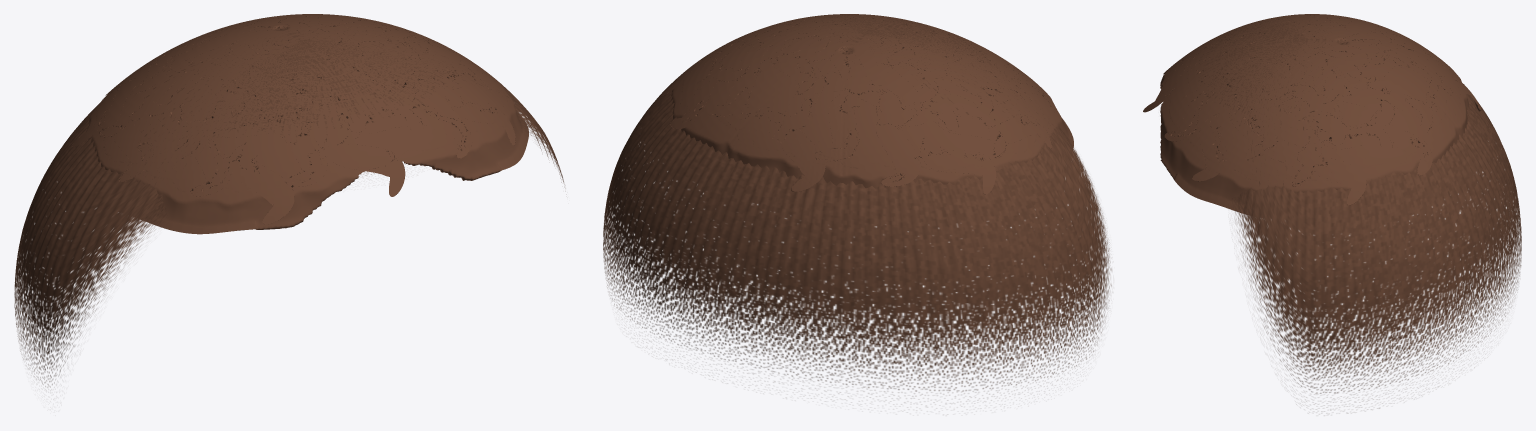
File: Masculine-curly-top-cap256-hair-ombre.glb
The picture shows the model from 3 angles, left to right: view 1: azimuth 30°, elevation 25°; view 2: azimuth 150°, elevation 25°; view 3: azimuth 270°, elevation 25°; orthographic projection. The views are drawn at different scales.
Visible parts, largest first — view 1: 226 hair / Hair252 / sculpted curl groups, 226 hair / Hair256 / selected B sides; view 2: 226 hair / Hair256 / selected B sides, 226 hair / Hair252 / sculpted curl groups; view 3: 226 hair / Hair256 / selected B sides, 226 hair / Hair252 / sculpted curl groups.
Boxes of the visible parts, <box> form: 226 hair / Hair252 / sculpted curl groups: <box>72,14,528,234</box>; 226 hair / Hair256 / selected B sides: <box>14,20,564,387</box>; 226 hair / Hair256 / selected B sides: <box>603,14,1111,400</box>; 226 hair / Hair252 / sculpted curl groups: <box>661,14,1073,194</box>; 226 hair / Hair256 / selected B sides: <box>1198,14,1521,413</box>; 226 hair / Hair252 / sculpted curl groups: <box>1143,14,1481,214</box>.
Bounding box in the file's own units: 0.972 × 0.584 × 0.7283.
2 materials, 1 textured.
